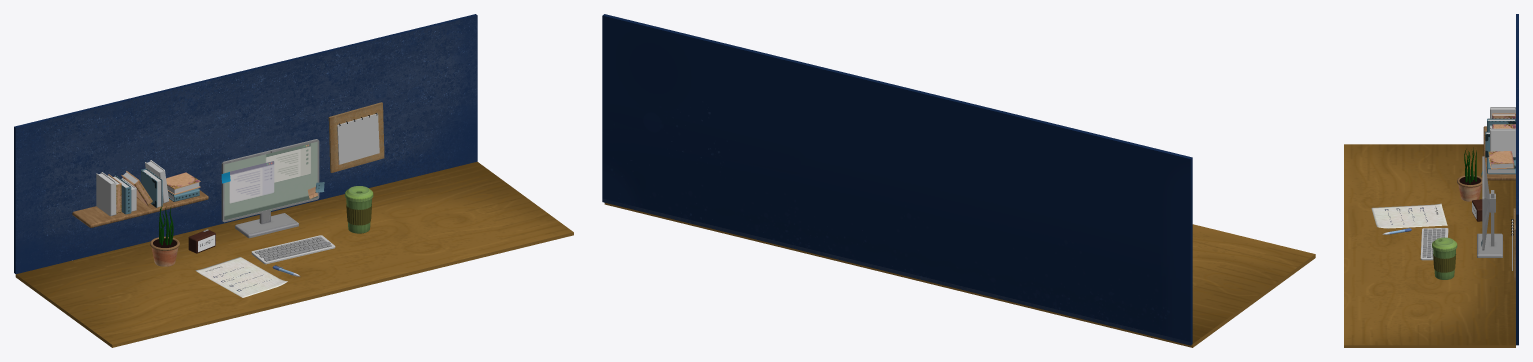
The model's file is escena_completa.obj.
The picture shows the model from 3 angles, left to right: view 1: azimuth 30°, elevation 25°; view 2: azimuth 150°, elevation 25°; view 3: azimuth 270°, elevation 25°; orthographic projection. The views are drawn at different scales.
Visible parts, largest first — view 1: Cube.010, Cube.009, Plane, Cube.013, Cube.002, Hoja_Pendientes, Cube.031, Cube.030, Cube, Cylinder.001, Cylinder.009, Cube.006; view 2: Cube.010, Cube.009; view 3: Cube.009, Cube.013, Hoja_Pendientes, Cube.002, Cube.010, Cylinder.001, Cylinder.009, Cube, Cube.006, Cube.030.
Part boxes in pixels (x1=…): Cube.010: x1=14, y1=14, x2=477, y2=273; Cube.009: x1=15, y1=161, x2=573, y2=347; Plane: x1=224, y1=141, x2=317, y2=220; Cube.013: x1=72, y1=160, x2=208, y2=227; Cube.002: x1=221, y1=139, x2=324, y2=238; Hoja_Pendientes: x1=195, y1=257, x2=287, y2=297; Cube.031: x1=337, y1=113, x2=379, y2=164; Cube.030: x1=328, y1=102, x2=384, y2=172; Cube: x1=251, y1=235, x2=335, y2=264; Cylinder.001: x1=345, y1=186, x2=373, y2=233; Cylinder.009: x1=150, y1=205, x2=179, y2=266; Cube.006: x1=188, y1=230, x2=215, y2=253; Cube.010: x1=602, y1=14, x2=1192, y2=345; Cube.009: x1=604, y1=203, x2=1315, y2=347; Cube.009: x1=1344, y1=144, x2=1515, y2=347; Cube.013: x1=1483, y1=107, x2=1515, y2=180; Hoja_Pendientes: x1=1371, y1=203, x2=1447, y2=228; Cube.002: x1=1477, y1=156, x2=1502, y2=257; Cube.010: x1=1516, y1=14, x2=1518, y2=345; Cylinder.001: x1=1432, y1=237, x2=1457, y2=279; Cylinder.009: x1=1457, y1=147, x2=1482, y2=201; Cube: x1=1420, y1=228, x2=1448, y2=260; Cube.006: x1=1472, y1=199, x2=1482, y2=221; Cube.030: x1=1511, y1=208, x2=1515, y2=280.
Bounding box in the file's own units: 22.57 × 6.98 × 8.31.
